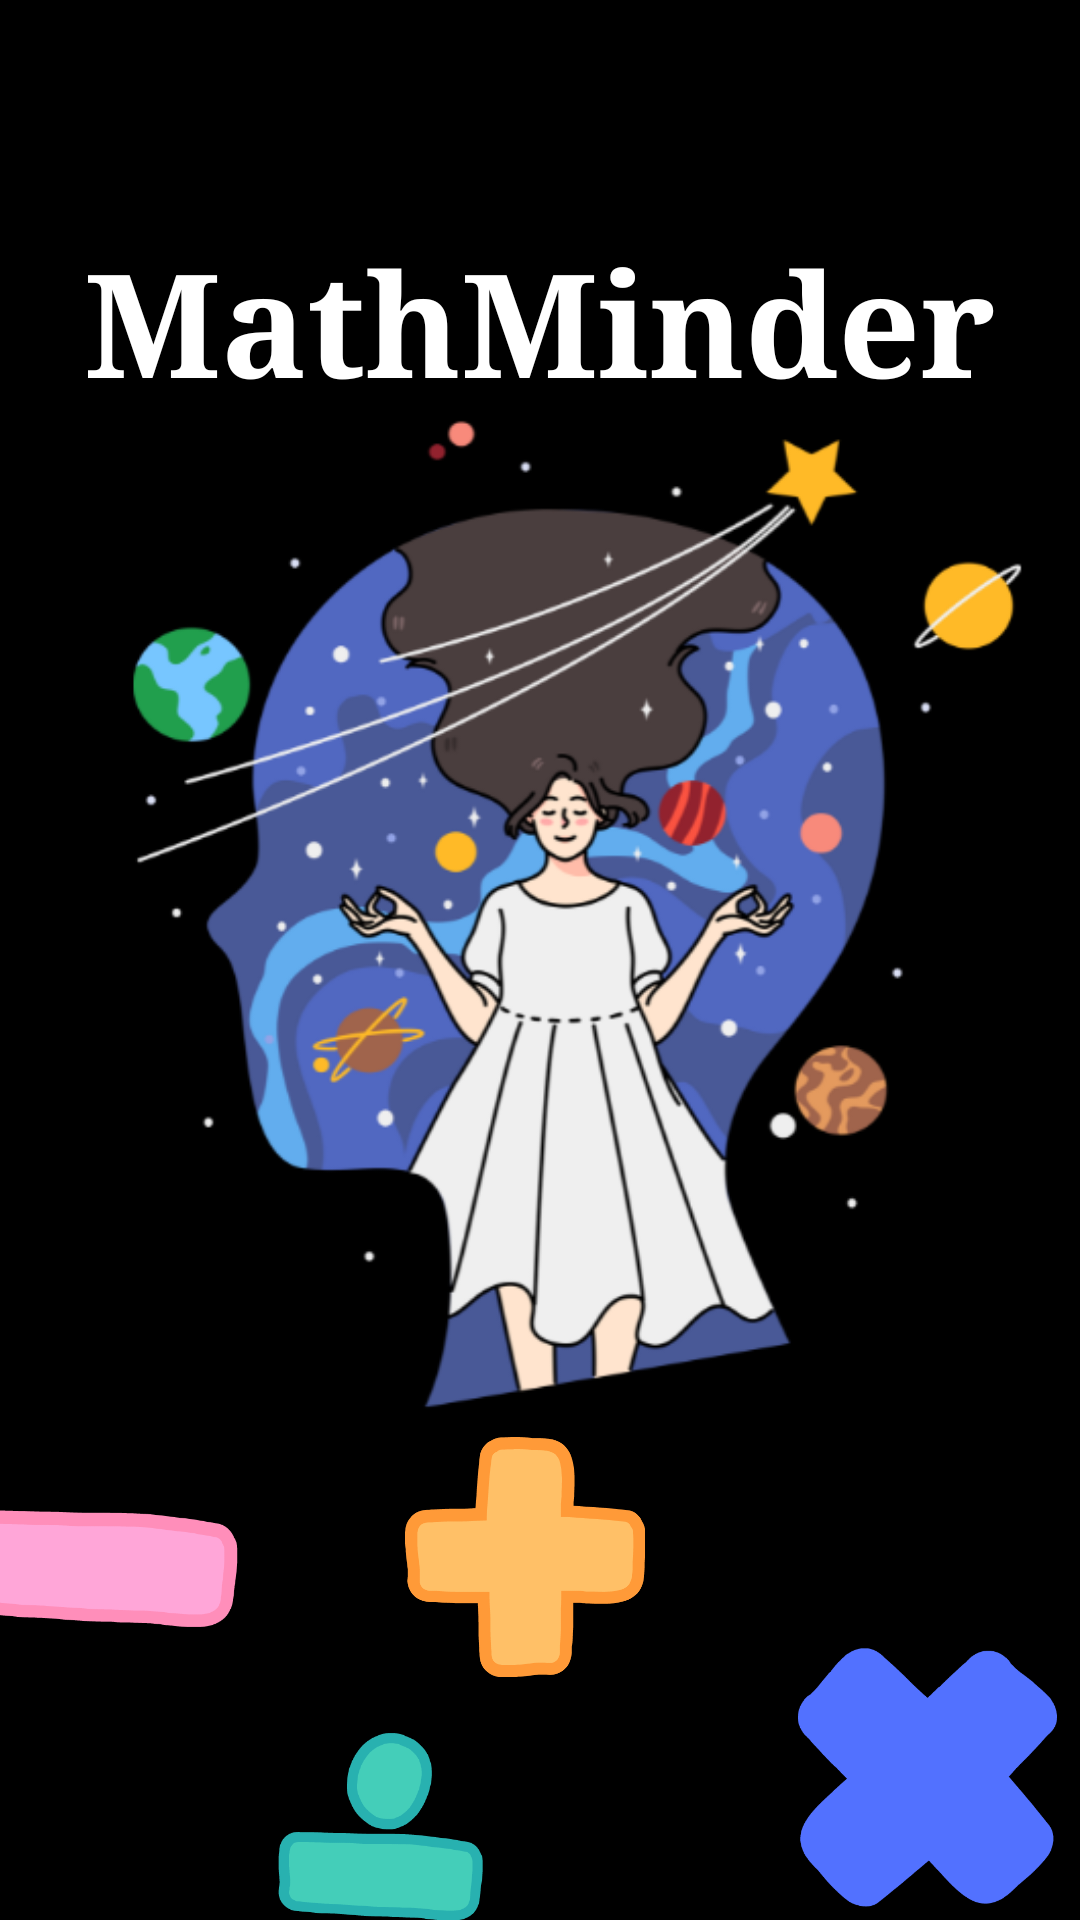

Where icons sit on this 1080 x 1920 app screen, as (x1, y1, x2, y2):
plus: (405, 1437, 645, 1677)
